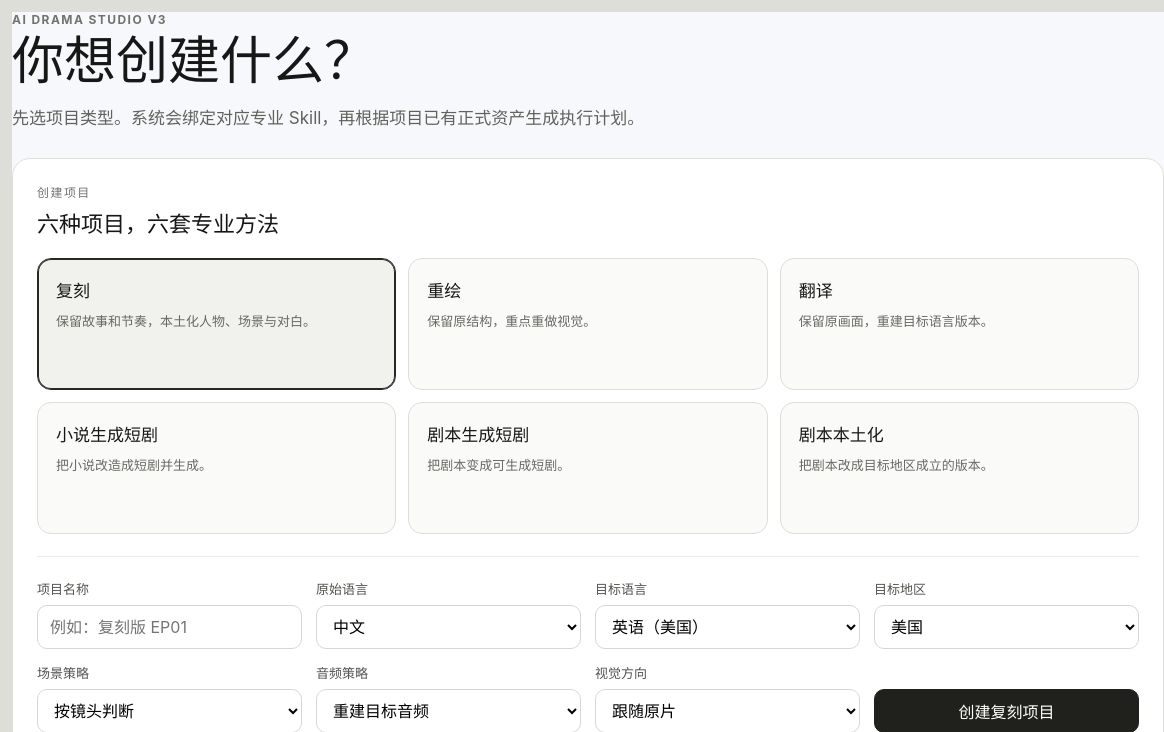
HomeView › renders six backend-driven project type cards with fixed selects
The width and height of the screenshot is (1164, 732).
Expected: the dropdown labelled "原始语言" is shown, left=316, top=605, right=581, bottom=649
Click the button with class "type-card" showing "剧本本土化 把剧本改成目标地区成立的版本。": (959, 468) left=780, top=402, right=1139, bottom=534
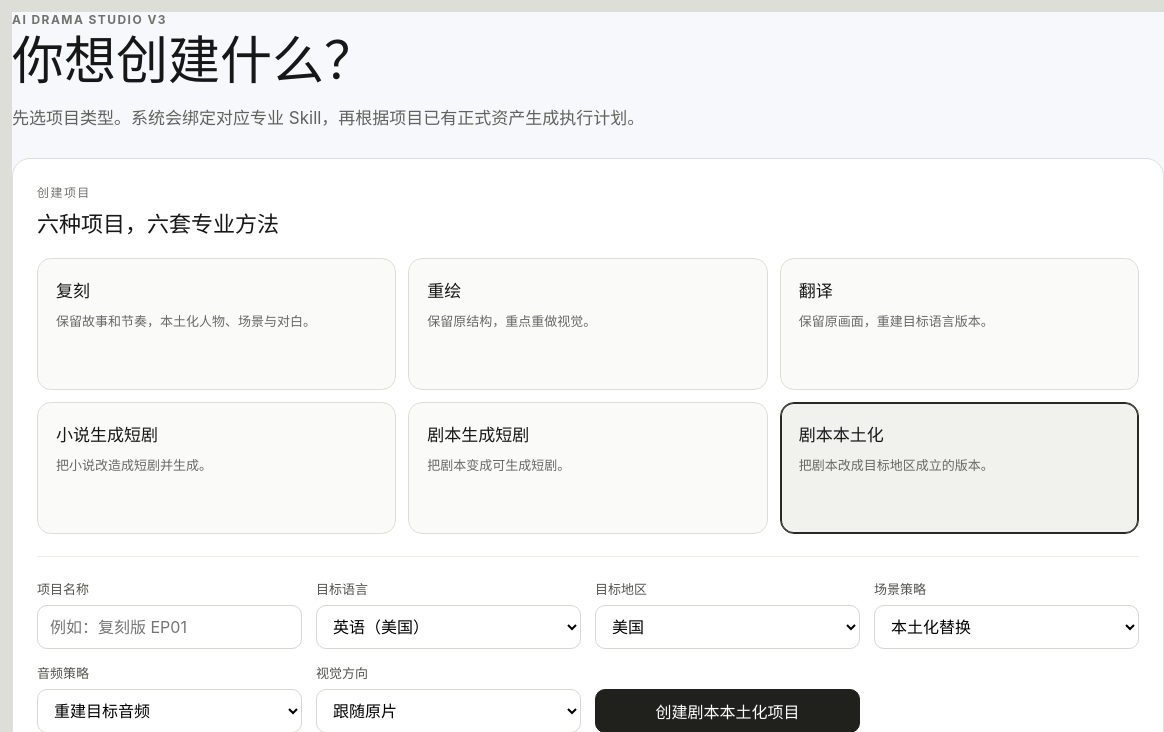
Expected: the text "原始语言" is gone
